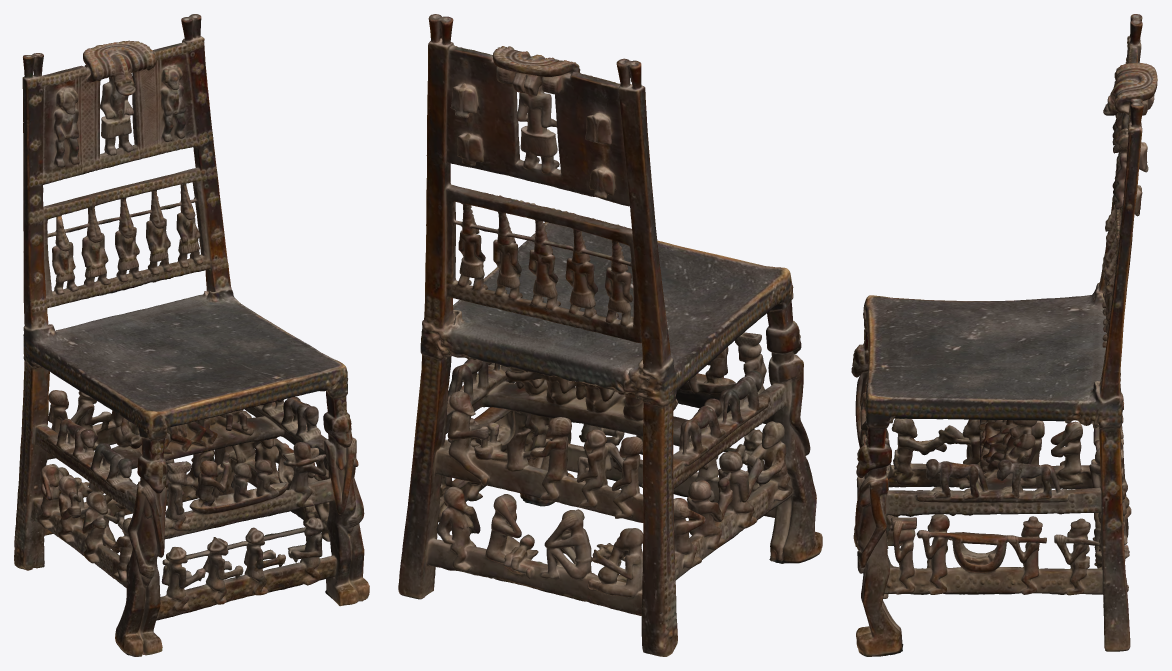
Rendered from preview.glb.
3 views of the same model, side by side, from view 1: azimuth 30°, elevation 25°; view 2: azimuth 150°, elevation 25°; view 3: azimuth 270°, elevation 25° (orthographic). The views are drawn at different scales.
Visible parts, largest first — view 1: Object_2; view 2: Object_2; view 3: Object_2.
Part boxes in pixels (x1,y1,x2,y2): Object_2: (14,14,369,656); Object_2: (398,14,822,656); Object_2: (851,14,1157,656).
Bounding box in the file's own units: 0.5486 × 1.07 × 0.5593.
Materials: 1 (1 with a texture image).
